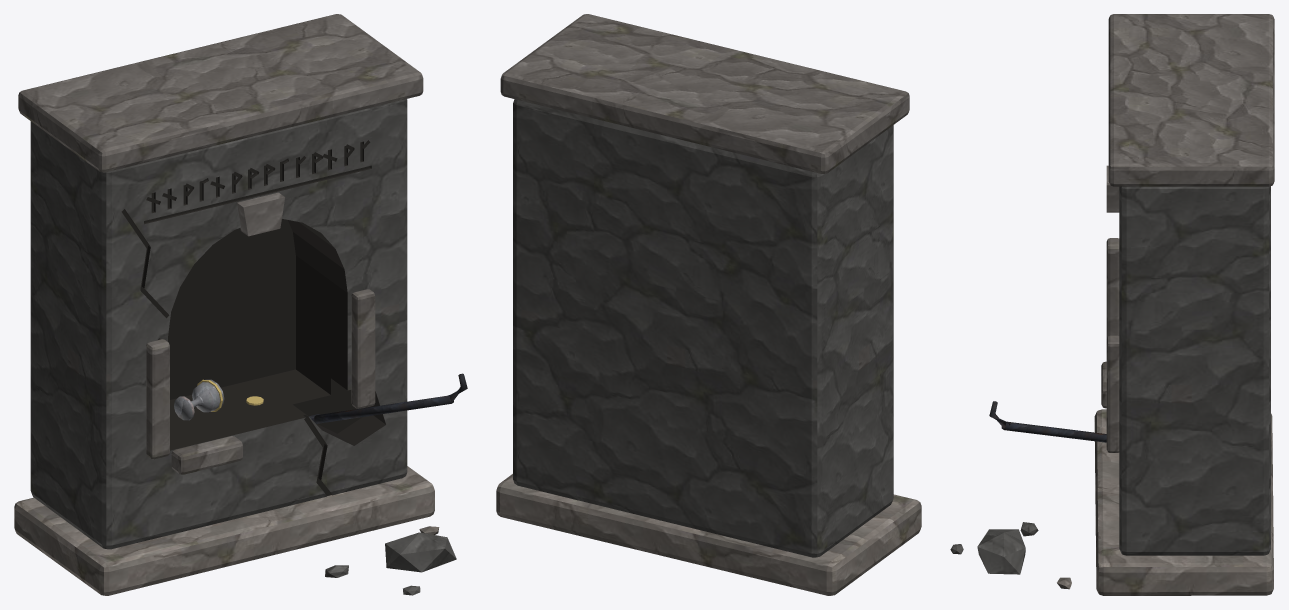
File: th_niche_looted.glb
3 views of the same model, side by side, from view 1: azimuth 30°, elevation 25°; view 2: azimuth 150°, elevation 25°; view 3: azimuth 270°, elevation 25° (orthographic). The views are drawn at different scales.
Visible parts, largest first — view 1: model; view 2: model; view 3: model.
Part boxes in pixels (box(x1,y1,x2,y2)): model: box(14, 14, 467, 595); model: box(496, 14, 921, 595); model: box(950, 14, 1274, 595).
Bounding box in the file's own units: 1.05 × 1.32 × 0.8983.
Materials: 7 (5 with a texture image).
